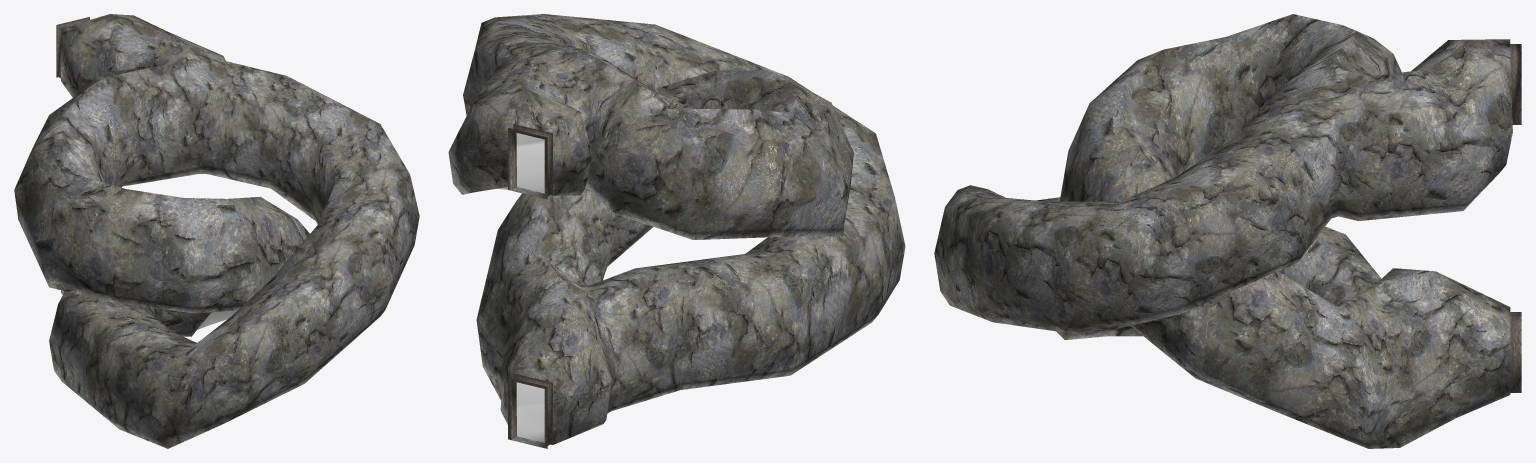
The model's file is RockyTunnel2.FBX.
The picture shows the model from 3 angles, left to right: view 1: azimuth 30°, elevation 25°; view 2: azimuth 150°, elevation 25°; view 3: azimuth 270°, elevation 25°; orthographic projection. The views are drawn at different scales.
Visible parts, largest first — view 1: Box22; view 2: Box22; view 3: Box22.
Boxes of the visible parts, left/top/right/bottom form: Box22: left=14, top=14, right=419, bottom=448; Box22: left=448, top=14, right=905, bottom=448; Box22: left=934, top=14, right=1521, bottom=448.
Bounding box in the file's own units: 2480 × 2103 × 2981.
